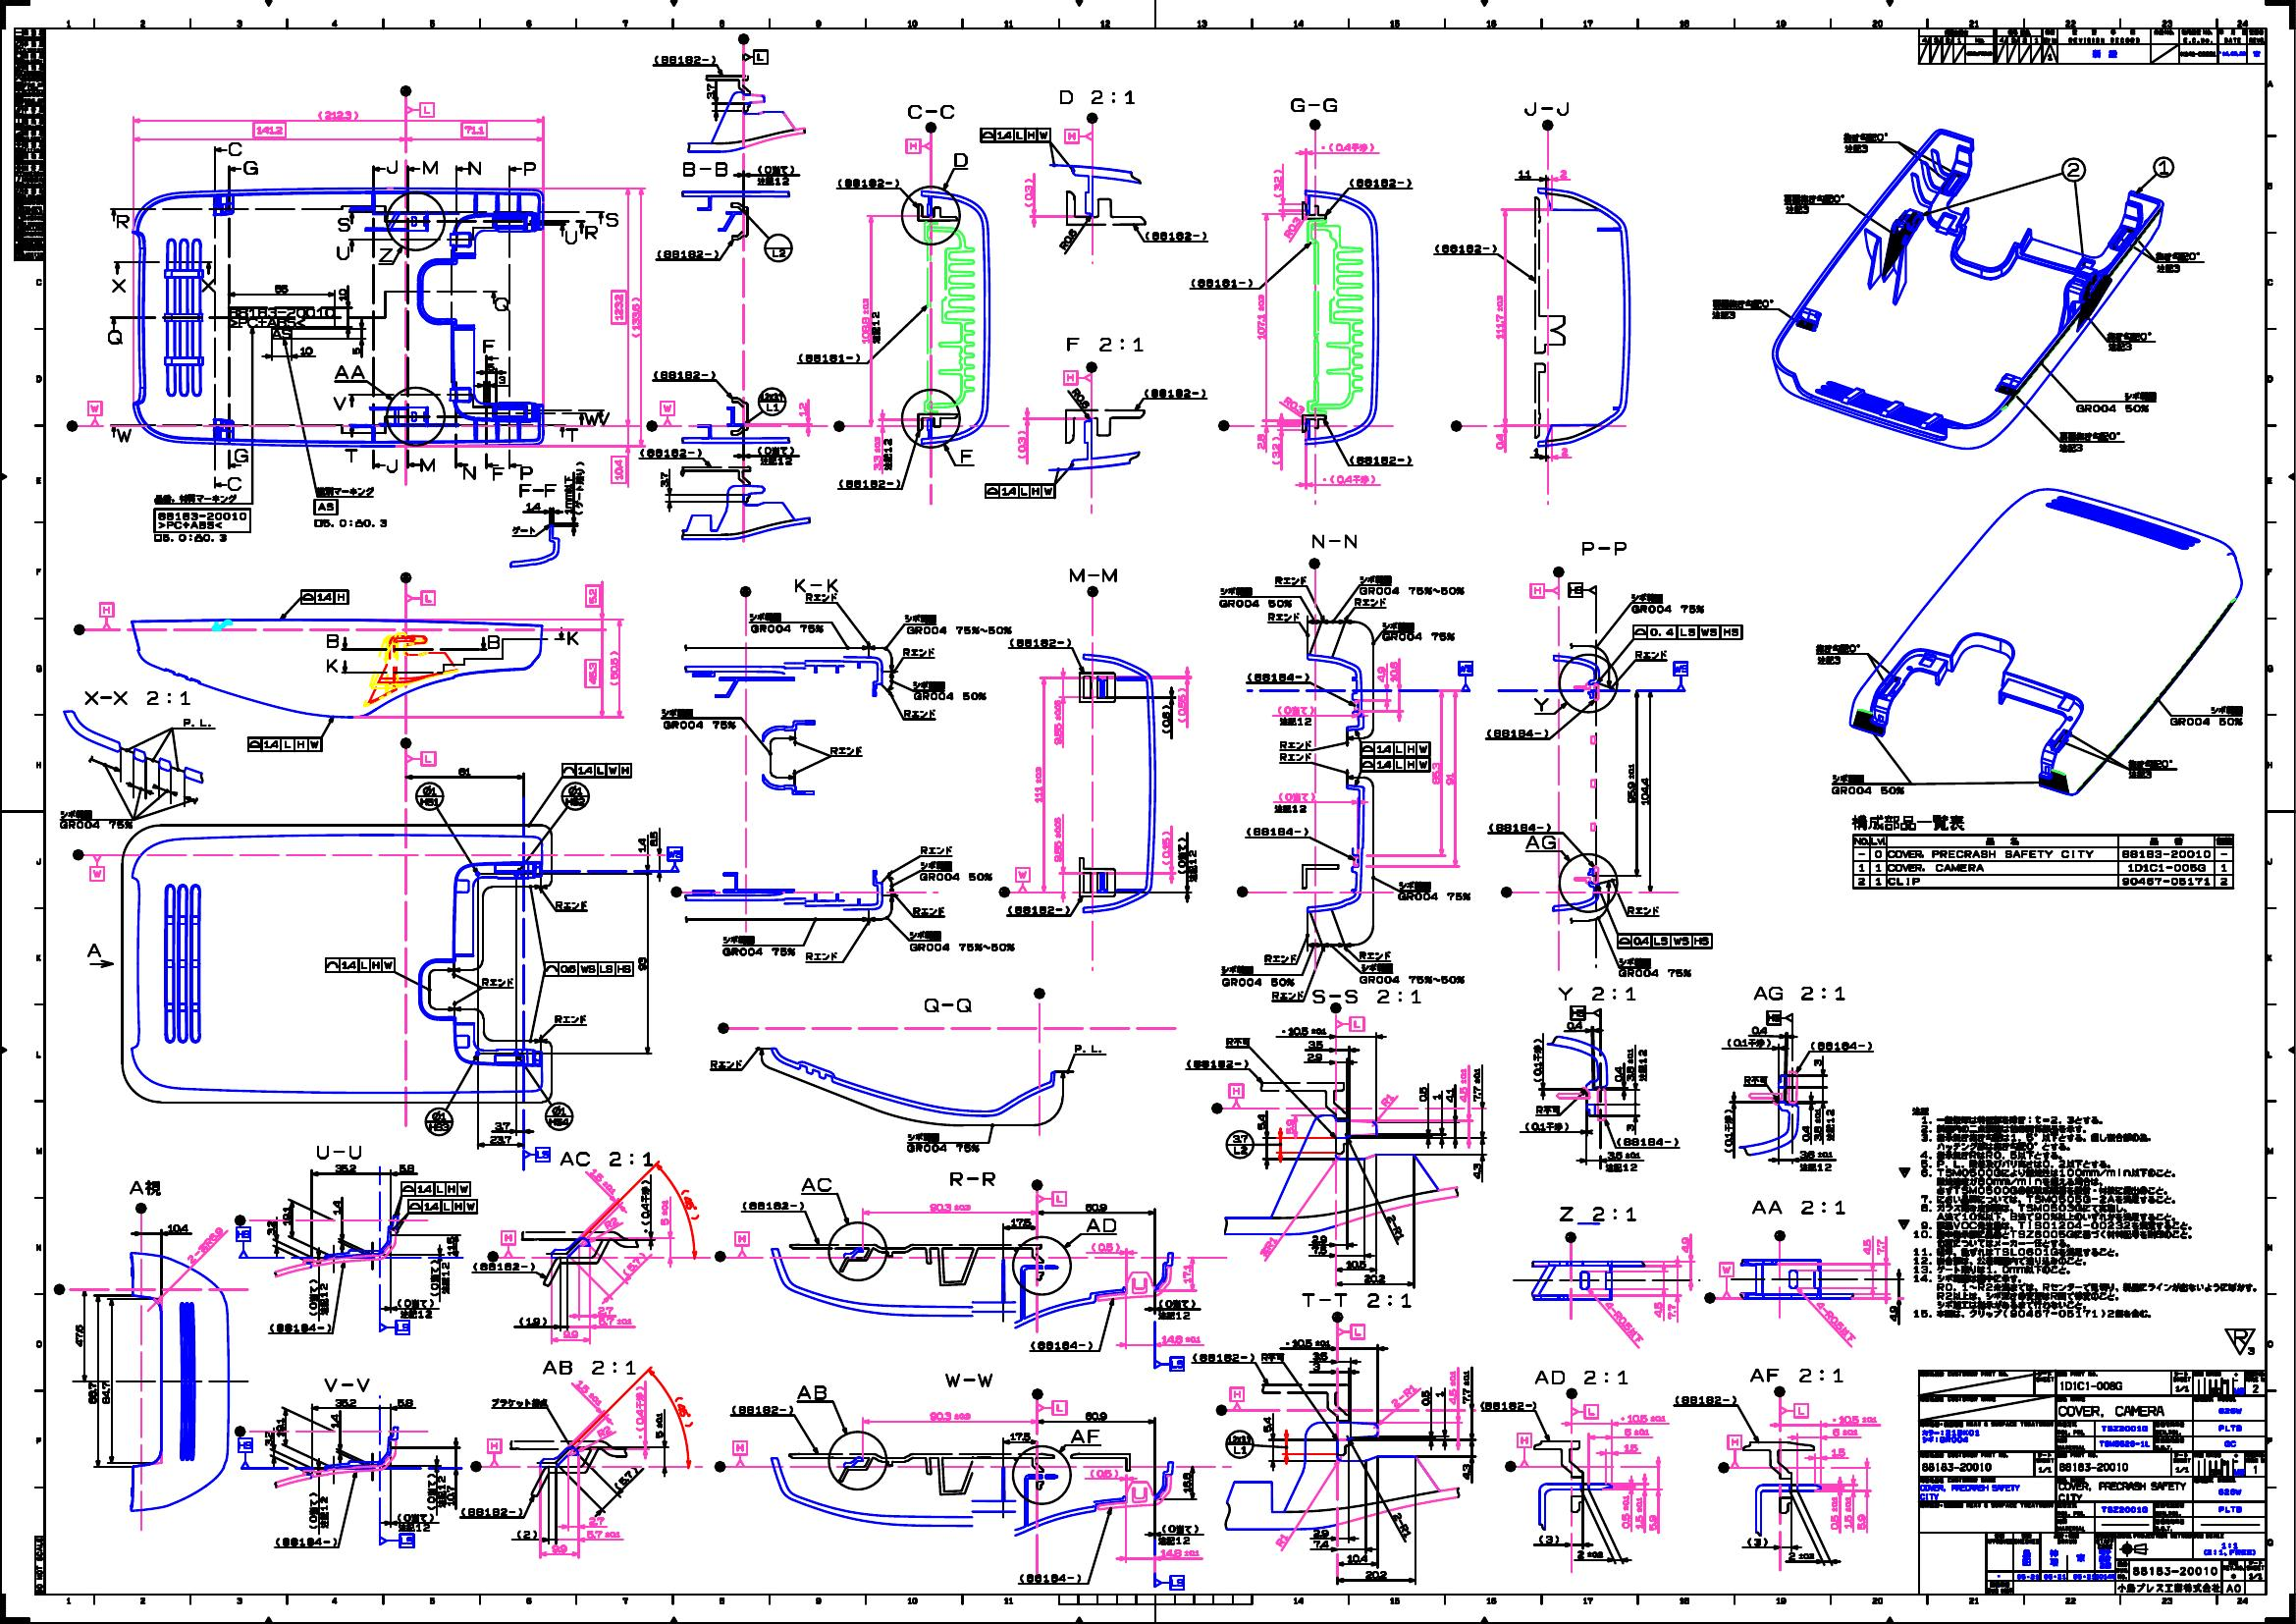anntotation_text: (1897, 1106, 2259, 1320), (1852, 814, 2235, 889), (153, 494, 251, 541), (314, 485, 390, 527), (908, 928, 1017, 953), (905, 612, 1012, 636), (1358, 575, 1467, 596), (1358, 963, 1465, 984), (1750, 1195, 1848, 1216), (1300, 1290, 1412, 1308), (659, 707, 738, 731), (2075, 390, 2159, 413), (83, 689, 191, 707), (917, 859, 993, 884), (910, 678, 989, 701), (2055, 429, 2124, 455), (1632, 624, 1744, 640), (1219, 963, 1296, 986), (718, 933, 796, 956), (1217, 585, 1293, 608), (1312, 988, 1421, 1004), (1748, 1367, 1845, 1385), (539, 1359, 636, 1376), (1751, 984, 1846, 1002), (559, 1149, 653, 1167), (1628, 592, 1706, 613), (1397, 881, 1472, 902), (1381, 620, 1456, 642), (56, 808, 132, 830), (905, 1132, 980, 1153), (1832, 773, 1906, 794), (1618, 956, 1692, 977), (1556, 1204, 1635, 1223), (1532, 1369, 1628, 1385), (1618, 933, 1713, 949), (2170, 705, 2247, 724), (1711, 297, 1776, 320), (748, 613, 824, 633), (1065, 336, 1145, 353), (543, 961, 632, 977), (1058, 88, 1137, 105), (1781, 192, 1846, 213), (1556, 986, 1635, 1002), (564, 459, 585, 515), (2155, 250, 2201, 274), (2108, 330, 2157, 353), (1815, 643, 1864, 666), (2222, 1325, 2257, 1357), (1360, 756, 1430, 772), (325, 958, 395, 974), (1177, 837, 1200, 884), (1274, 791, 1316, 816), (248, 736, 321, 750), (399, 1181, 473, 1195), (755, 385, 787, 417), (1843, 132, 1890, 153), (984, 483, 1054, 497), (1360, 742, 1430, 756), (562, 763, 632, 777), (408, 1199, 478, 1213), (943, 1371, 994, 1390), (980, 128, 1049, 142), (2126, 758, 2175, 777), (423, 1106, 455, 1135), (1066, 566, 1119, 584), (755, 163, 796, 186), (307, 1278, 330, 1318), (949, 1171, 1000, 1188), (1309, 533, 1360, 550), (924, 997, 975, 1014), (762, 232, 792, 262), (1224, 1429, 1254, 1459), (560, 780, 590, 810), (1224, 1128, 1254, 1158), (657, 246, 720, 260), (653, 367, 717, 381), (1158, 1524, 1200, 1545), (1158, 1299, 1196, 1322), (307, 1490, 330, 1529), (1579, 540, 1628, 557), (321, 1376, 371, 1394), (1432, 243, 1500, 255), (429, 1258, 451, 1295), (1321, 141, 1379, 155), (905, 104, 956, 120), (299, 589, 350, 605), (638, 446, 703, 459), (796, 352, 861, 364), (1244, 826, 1309, 838), (1007, 636, 1072, 649), (731, 1403, 796, 1415), (415, 782, 443, 810), (545, 1102, 573, 1130), (755, 446, 796, 466), (653, 53, 717, 65), (836, 176, 899, 188), (1289, 97, 1339, 112), (791, 576, 840, 592), (1674, 1394, 1737, 1406), (1019, 1571, 1082, 1584), (1488, 821, 1551, 833), (1245, 671, 1309, 684), (1616, 1135, 1679, 1148), (314, 1144, 364, 1160), (1277, 707, 1316, 726), (427, 1471, 446, 1510), (395, 1299, 434, 1318), (1319, 473, 1379, 485), (682, 160, 727, 176), (397, 1513, 434, 1533), (1347, 455, 1414, 466), (1483, 728, 1549, 738), (2059, 156, 2085, 183), (1523, 102, 1572, 116), (492, 1397, 548, 1410), (1142, 230, 1207, 241), (1189, 278, 1254, 288), (1347, 178, 1412, 188), (1808, 1040, 1873, 1051), (1191, 1352, 1256, 1362), (1597, 1315, 1651, 1327), (1808, 1315, 1862, 1327), (838, 478, 901, 489), (1142, 387, 1205, 397), (1007, 903, 1070, 914), (1029, 1339, 1093, 1350), (741, 1200, 805, 1211), (473, 1260, 536, 1271), (274, 1536, 337, 1547), (269, 1322, 332, 1332), (2150, 155, 2177, 179), (1188, 1058, 1249, 1069), (460, 1506, 522, 1517), (796, 1383, 829, 1403), (516, 482, 557, 497), (1514, 1432, 1532, 1468), (379, 1531, 415, 1548), (35, 1536, 46, 1594), (1479, 1401, 1535, 1411), (639, 1179, 650, 1236), (1725, 1434, 1743, 1468), (799, 1176, 833, 1193), (1718, 1262, 1734, 1299), (334, 362, 365, 380), (1523, 835, 1558, 851), (1084, 1218, 1119, 1234), (1725, 1037, 1769, 1049), (128, 1179, 162, 1195), (1036, 1190, 1066, 1207), (636, 1383, 645, 1441), (829, 743, 864, 758), (1723, 1107, 1734, 1153), (1778, 1403, 1808, 1418), (1070, 1427, 1100, 1443), (1036, 1401, 1066, 1417), (1528, 584, 1558, 599), (1567, 582, 1597, 598), (1458, 661, 1474, 691), (1335, 1016, 1365, 1032), (1570, 1005, 1600, 1021), (1154, 1355, 1184, 1371), (487, 1438, 502, 1468), (379, 1320, 409, 1336), (903, 707, 936, 721), (1532, 1037, 1542, 1081), (1525, 1120, 1569, 1130), (1604, 1162, 1641, 1174), (1065, 128, 1093, 144), (404, 591, 436, 605), (1570, 1403, 1599, 1418), (406, 102, 434, 118), (1672, 663, 1688, 691), (179, 715, 211, 729), (499, 1229, 515, 1257), (239, 1438, 253, 1469), (235, 1227, 249, 1258), (870, 309, 882, 344), (98, 601, 112, 631), (406, 750, 436, 765), (659, 401, 675, 427), (905, 139, 931, 155), (1014, 866, 1029, 893), (1279, 750, 1312, 763), (1265, 610, 1298, 622), (553, 898, 587, 910), (1337, 1323, 1365, 1338), (1156, 1575, 1184, 1589), (90, 854, 104, 882), (917, 845, 954, 856), (882, 436, 892, 471), (1825, 1107, 1836, 1142), (1797, 1162, 1832, 1172), (733, 1439, 747, 1466), (1625, 905, 1660, 916), (668, 845, 682, 872), (553, 1012, 588, 1023), (1358, 949, 1391, 960), (912, 905, 945, 916), (899, 647, 933, 657), (1354, 596, 1388, 606), (1274, 575, 1307, 585), (1063, 371, 1091, 383), (1230, 1385, 1244, 1410), (88, 401, 102, 425), (1228, 1084, 1242, 1109), (1534, 1104, 1562, 1116), (1767, 1011, 1792, 1025), (734, 1232, 748, 1257), (483, 633, 502, 650), (114, 425, 132, 445), (225, 139, 244, 156), (241, 156, 260, 174), (378, 244, 395, 264), (227, 475, 244, 494), (339, 446, 357, 466), (418, 457, 437, 475), (460, 462, 478, 482), (581, 410, 599, 429), (596, 410, 613, 429), (583, 225, 603, 243), (1281, 740, 1312, 750), (1224, 1035, 1251, 1048), (743, 49, 766, 63), (952, 151, 970, 169), (805, 951, 840, 960), (323, 631, 341, 649), (323, 657, 341, 675), (112, 213, 130, 230), (109, 276, 126, 294), (105, 329, 123, 346), (381, 156, 399, 174), (422, 156, 439, 174), (334, 214, 351, 232), (334, 244, 351, 262), (330, 394, 348, 411), (232, 446, 249, 464), (383, 459, 401, 476), (488, 466, 506, 483), (516, 466, 534, 483), (564, 424, 581, 441), (562, 228, 580, 246), (604, 213, 622, 230), (520, 160, 538, 178), (466, 160, 483, 178), (492, 297, 509, 315), (480, 337, 497, 355), (1073, 1042, 1101, 1053), (1263, 953, 1296, 961), (1270, 990, 1303, 998), (805, 592, 838, 601), (1634, 650, 1667, 659), (708, 1058, 741, 1067), (84, 944, 102, 960), (481, 977, 513, 986), (511, 526, 536, 536), (1743, 1074, 1767, 1084), (711, 1459, 727, 1475), (959, 446, 973, 464), (1261, 1352, 1284, 1362), (1235, 884, 1249, 900), (202, 278, 216, 294), (1534, 698, 1549, 712), (566, 629, 580, 645), (1033, 984, 1047, 1000), (715, 1021, 731, 1035), (924, 121, 938, 135), (1307, 118, 1321, 132), (998, 884, 1012, 898), (740, 584, 754, 598), (1716, 1461, 1730, 1475), (1214, 1403, 1228, 1417), (1307, 557, 1321, 571), (232, 1213, 246, 1227), (1084, 112, 1100, 125), (1541, 120, 1556, 132), (1498, 886, 1514, 898), (736, 32, 748, 46), (1084, 360, 1098, 373), (399, 571, 413, 584), (1773, 1229, 1787, 1241), (1702, 1292, 1716, 1304), (1565, 1387, 1578, 1401), (1031, 1387, 1043, 1401), (1217, 418, 1230, 432), (1551, 566, 1565, 578), (399, 736, 411, 750), (1210, 1102, 1224, 1114), (1029, 1178, 1043, 1190), (65, 420, 77, 432), (645, 420, 657, 432), (833, 420, 845, 432), (1086, 585, 1098, 598), (671, 886, 683, 898), (74, 622, 86, 634), (1773, 1385, 1785, 1397), (1504, 1461, 1516, 1473), (1330, 1309, 1342, 1322), (399, 84, 411, 97), (1449, 420, 1462, 432), (1330, 1002, 1342, 1014), (713, 1250, 726, 1262), (469, 1461, 481, 1473), (234, 1425, 246, 1438), (1565, 1232, 1578, 1243), (72, 849, 84, 859), (135, 1202, 148, 1213), (53, 1283, 65, 1294), (488, 1250, 499, 1260)
dimension_text: (179, 1239, 232, 1251), (1051, 698, 1063, 747), (253, 121, 286, 139), (1493, 294, 1505, 341), (1284, 1336, 1332, 1348), (1281, 1025, 1326, 1037), (583, 659, 603, 687), (611, 290, 627, 323), (1052, 816, 1063, 863), (861, 297, 871, 344), (1830, 1413, 1876, 1424), (928, 1410, 971, 1420), (929, 1202, 973, 1213), (460, 121, 487, 139), (608, 650, 620, 687), (583, 1176, 620, 1188), (1159, 830, 1172, 866), (1159, 1334, 1202, 1345), (316, 109, 358, 120), (611, 455, 627, 483), (571, 1387, 606, 1399), (1033, 765, 1043, 805), (1159, 1547, 1200, 1557), (683, 1186, 696, 1220), (1256, 294, 1265, 339), (1620, 1413, 1665, 1422), (516, 1315, 548, 1327), (1388, 1388, 1419, 1401), (1448, 1369, 1458, 1406), (1620, 1492, 1630, 1529), (1177, 685, 1188, 722), (585, 585, 603, 606), (631, 295, 639, 337), (597, 1316, 632, 1327), (1829, 1496, 1839, 1531), (1606, 1149, 1641, 1160), (1637, 1048, 1648, 1083), (611, 1471, 641, 1483), (1627, 763, 1635, 803), (1843, 1496, 1853, 1529), (1799, 1149, 1832, 1160), (1381, 1222, 1412, 1232), (678, 1396, 689, 1427), (1089, 1241, 1121, 1251), (1159, 703, 1170, 735), (1054, 232, 1080, 244), (659, 1197, 669, 1227), (587, 1529, 622, 1538), (1462, 1369, 1470, 1404), (873, 436, 882, 471), (1458, 1067, 1467, 1102), (1472, 1067, 1481, 1102), (1813, 1107, 1822, 1142), (86, 1380, 98, 1404), (1272, 169, 1282, 197), (1089, 1468, 1117, 1478), (1388, 1519, 1416, 1529), (1634, 1496, 1643, 1529), (1625, 1048, 1634, 1081), (1070, 392, 1093, 404), (1279, 221, 1305, 232), (334, 1397, 360, 1408), (653, 1411, 664, 1438), (1024, 178, 1033, 209), (1832, 1425, 1859, 1436), (1272, 436, 1281, 466), (1017, 429, 1026, 459), (1576, 1550, 1606, 1559), (1641, 777, 1650, 807), (444, 1483, 455, 1508), (1084, 1202, 1108, 1213), (1346, 1552, 1370, 1562), (620, 1258, 648, 1267), (1363, 1272, 1386, 1283), (1346, 1258, 1368, 1269), (100, 1381, 111, 1404), (1008, 1431, 1031, 1441), (1182, 1262, 1193, 1285), (487, 1135, 513, 1144), (74, 1322, 83, 1348), (1623, 1427, 1650, 1436), (1788, 1552, 1815, 1561), (274, 1417, 285, 1438), (334, 1164, 355, 1174), (167, 1223, 188, 1234), (1746, 1536, 1767, 1547), (1390, 661, 1400, 682), (1281, 401, 1305, 410), (1363, 1570, 1388, 1578), (1651, 1301, 1664, 1318), (1375, 666, 1388, 684), (636, 954, 646, 974), (395, 1397, 415, 1408), (550, 1543, 569, 1554), (1084, 1411, 1107, 1420), (1182, 1471, 1191, 1494), (1008, 1218, 1031, 1227), (281, 1204, 290, 1227), (1432, 763, 1440, 786), (1493, 432, 1504, 450), (455, 766, 473, 777), (638, 835, 646, 856), (1444, 1086, 1455, 1104), (1418, 1084, 1428, 1102), (1305, 1051, 1323, 1062), (1307, 1039, 1325, 1049), (516, 1529, 538, 1538), (562, 1329, 580, 1339), (397, 1162, 415, 1172), (1421, 1390, 1432, 1408), (1462, 1462, 1472, 1480), (1312, 1538, 1330, 1548), (1312, 1527, 1330, 1538), (1274, 1534, 1291, 1545), (1261, 1417, 1272, 1434), (1539, 1534, 1560, 1543), (1648, 1513, 1658, 1531), (1888, 1304, 1899, 1322), (1860, 1237, 1871, 1255), (1665, 1302, 1676, 1320), (1565, 1019, 1583, 1030), (1801, 1125, 1811, 1142), (274, 283, 288, 295), (446, 1236, 455, 1255), (1379, 1095, 1395, 1106), (1284, 1118, 1295, 1134), (337, 286, 348, 302), (704, 83, 715, 98), (659, 471, 669, 487), (798, 401, 808, 417), (604, 1218, 620, 1229), (265, 1220, 276, 1236), (1623, 1443, 1639, 1454), (1830, 1446, 1846, 1457), (1874, 1239, 1885, 1255), (648, 830, 657, 847), (1310, 1244, 1328, 1253), (264, 1429, 272, 1446), (1312, 1352, 1330, 1360), (1256, 432, 1265, 450), (332, 1199, 341, 1216), (1472, 1162, 1481, 1179), (1857, 1512, 1866, 1529), (1681, 1236, 1690, 1253), (1614, 1065, 1623, 1083), (1518, 169, 1532, 179), (1256, 1114, 1267, 1128), (1444, 772, 1455, 786), (494, 1120, 509, 1128), (330, 1411, 339, 1427), (588, 1517, 604, 1526), (525, 501, 541, 510), (597, 1306, 613, 1315), (1751, 1025, 1767, 1033), (597, 1427, 611, 1436), (1312, 1234, 1326, 1243), (299, 346, 313, 355), (1558, 169, 1569, 179), (1560, 446, 1569, 457), (1432, 1091, 1440, 1102), (1433, 1390, 1444, 1399), (350, 346, 360, 355), (497, 374, 506, 385), (1625, 1123, 1635, 1132), (1312, 1362, 1321, 1371), (1813, 1058, 1822, 1067), (1532, 446, 1539, 455)
object: (1771, 127, 2166, 453), (118, 821, 553, 1107), (1848, 485, 2247, 798), (132, 185, 546, 450), (678, 72, 812, 541), (682, 642, 894, 923), (128, 617, 545, 719), (1223, 1077, 1462, 1237), (1223, 1380, 1462, 1534), (766, 1241, 1175, 1329), (768, 1448, 1179, 1534), (128, 1251, 232, 1513), (755, 1042, 1065, 1128), (1532, 185, 1632, 448), (1065, 160, 1147, 471), (1305, 617, 1375, 947), (1298, 188, 1381, 446), (1077, 652, 1156, 914), (913, 188, 993, 448), (1551, 645, 1609, 923), (60, 708, 204, 784), (272, 1211, 401, 1278), (271, 1425, 401, 1490), (1739, 1438, 1822, 1534), (508, 1438, 629, 1499), (1534, 1438, 1613, 1531), (516, 1227, 639, 1287), (1546, 1035, 1613, 1123), (1736, 1067, 1801, 1156), (1530, 1258, 1650, 1301), (1739, 1255, 1823, 1302)
title_block: (1918, 1369, 2264, 1594), (1917, 28, 2266, 65), (14, 26, 46, 262)
